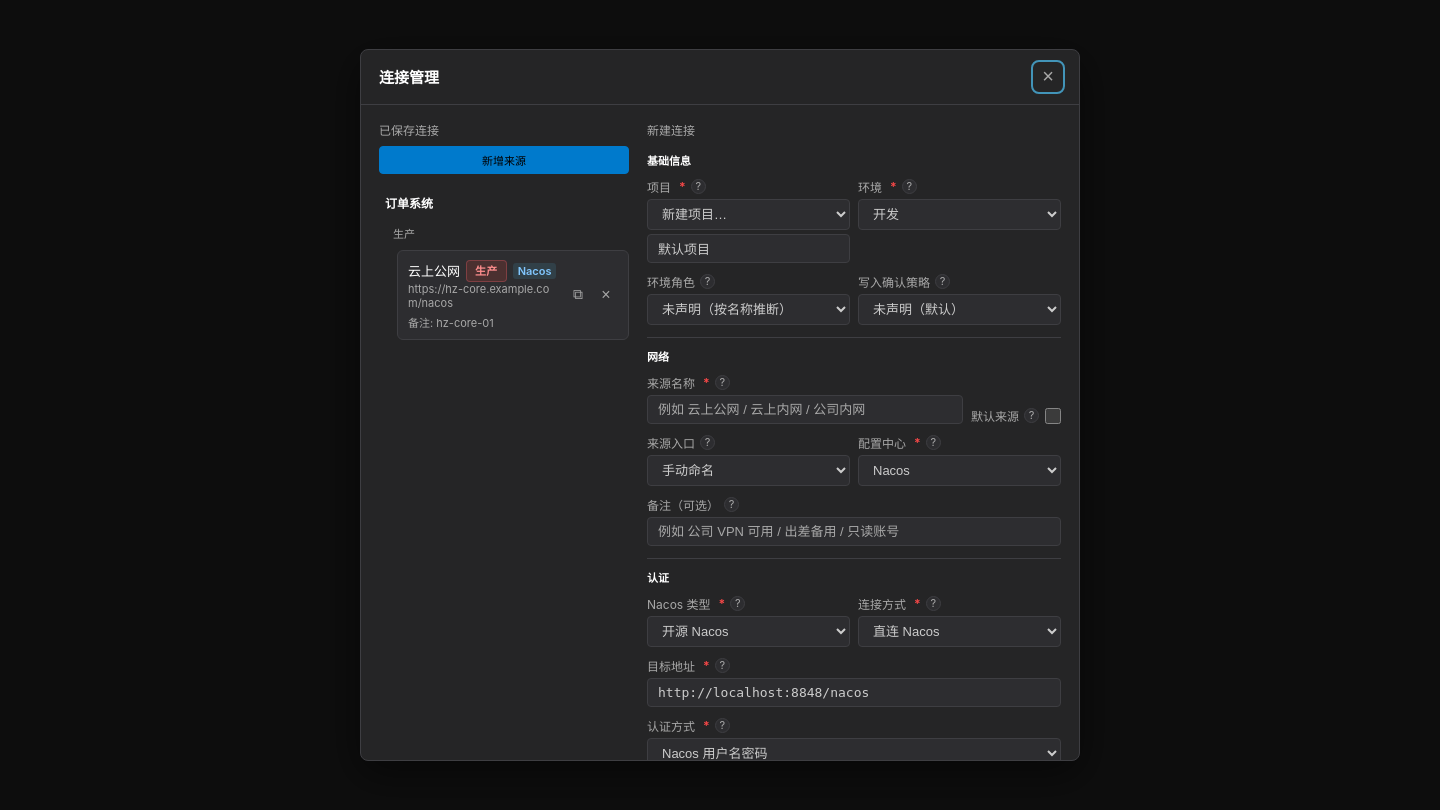
ConnectionManager › reflects saved explicit fields into the edit form
What coordinates should you click on to do the following:
click the element that starts with "云上公网"
I would click on:
 (513, 295)
Its box is [397, 250, 629, 340].
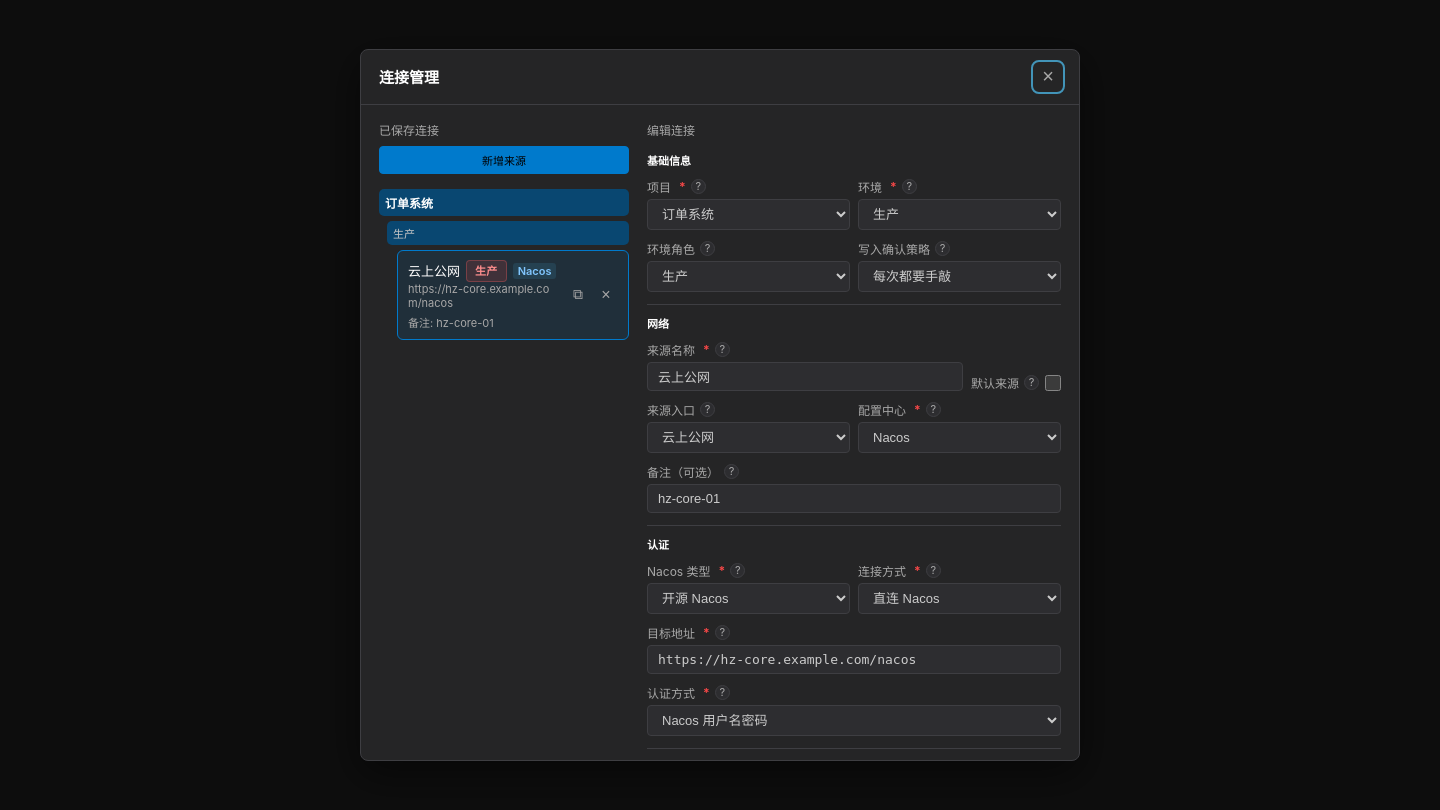
Now the dropdown labelled "环境角色 ?" shows "生产", box [647, 261, 850, 292]
Now the dropdown labelled "写入确认策略 ?" shows "每次都要手敲", box [858, 261, 1061, 292]
